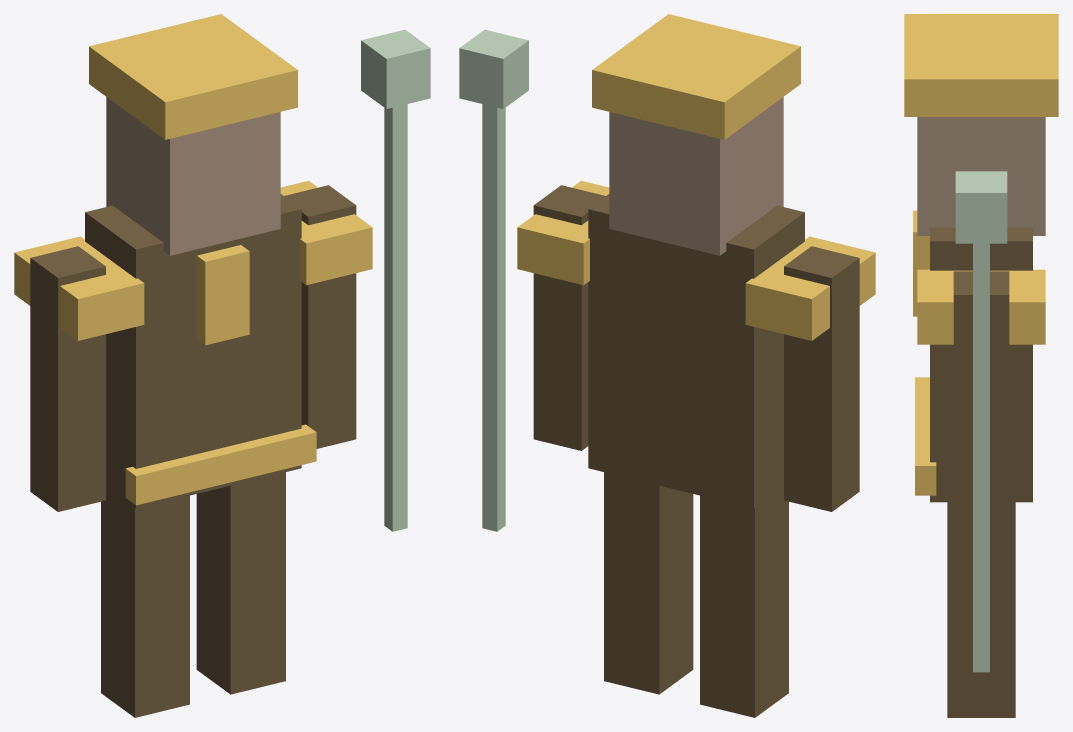
Rendered from 02_tovin_stormhush_oracle_at.glb.
3 renders of one model, left to right at view 1: azimuth 30°, elevation 25°; view 2: azimuth 150°, elevation 25°; view 3: azimuth 270°, elevation 25°, orthographic.
Visible parts, largest first — view 1: Tovin Stormhush, Oracle at; view 2: Tovin Stormhush, Oracle at; view 3: Tovin Stormhush, Oracle at.
Part boxes in pixels (x1,y1,x2,y2): Tovin Stormhush, Oracle at: (14,14,430,717); Tovin Stormhush, Oracle at: (459,14,875,717); Tovin Stormhush, Oracle at: (904,14,1058,717).
Size of the model in its own units: 1.04 by 1.67 by 0.3673.
